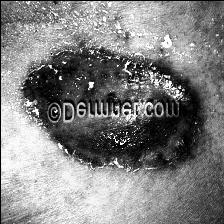Toxin: (22, 43, 212, 97), (24, 119, 200, 169)
